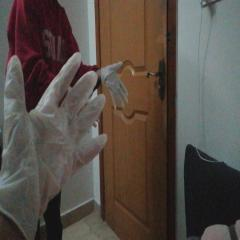gloved: (0, 52, 108, 238), (101, 61, 129, 109)
